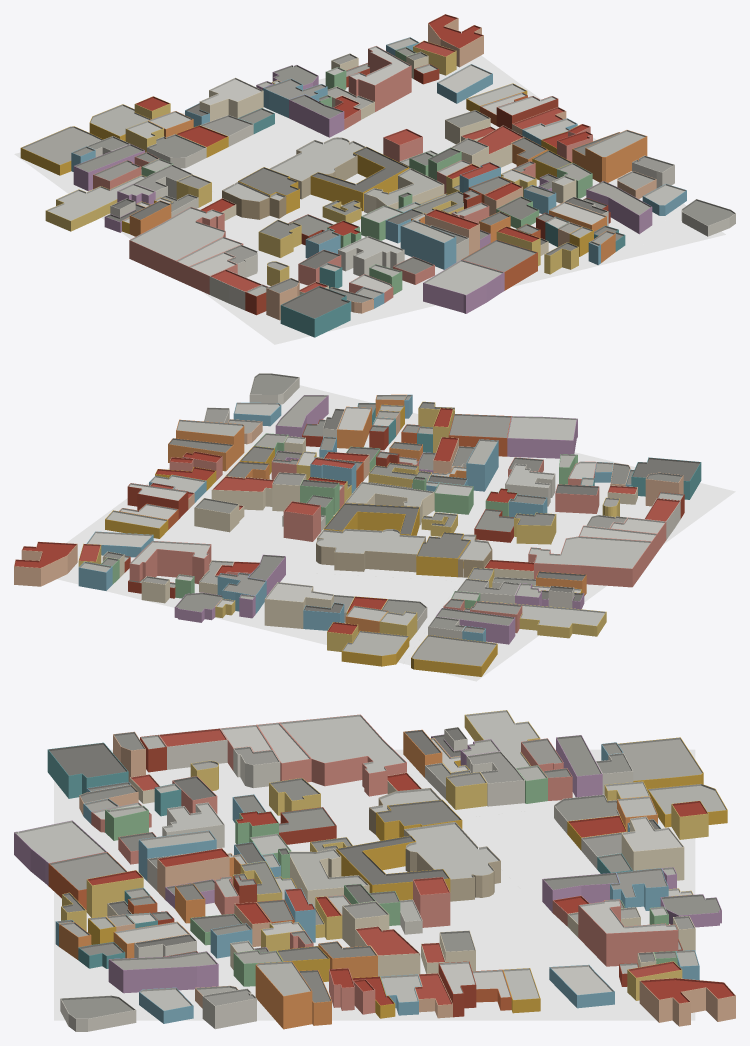
3 renders of one model, top to bottom at view 1: azimuth 30°, elevation 25°; view 2: azimuth 150°, elevation 25°; view 3: azimuth 270°, elevation 25°, orthographic. The views are drawn at different scales.
Visible parts, largest first — view 1: roofs, walls, plaza, asphalt, pavers; view 2: roofs, walls, plaza, asphalt, pavers; view 3: roofs, walls, plaza, asphalt, pavers.
Boxes of the visible parts, x1,y1,x2,y2 form: roofs: [21, 14, 735, 318]; walls: [20, 18, 735, 337]; plaza: [18, 55, 725, 344]; asphalt: [14, 119, 686, 339]; pavers: [263, 57, 699, 274]; roofs: [14, 373, 700, 666]; walls: [14, 377, 701, 676]; plaza: [57, 385, 735, 678]; asphalt: [281, 407, 715, 681]; pavers: [77, 388, 509, 627]; roofs: [14, 710, 735, 1018]; walls: [14, 715, 735, 1031]; plaza: [54, 749, 695, 1020]; asphalt: [54, 749, 695, 1020]; pavers: [54, 837, 695, 1020].
Size of what is drawn, in the model's own units: 285 by 14.15 by 282.
